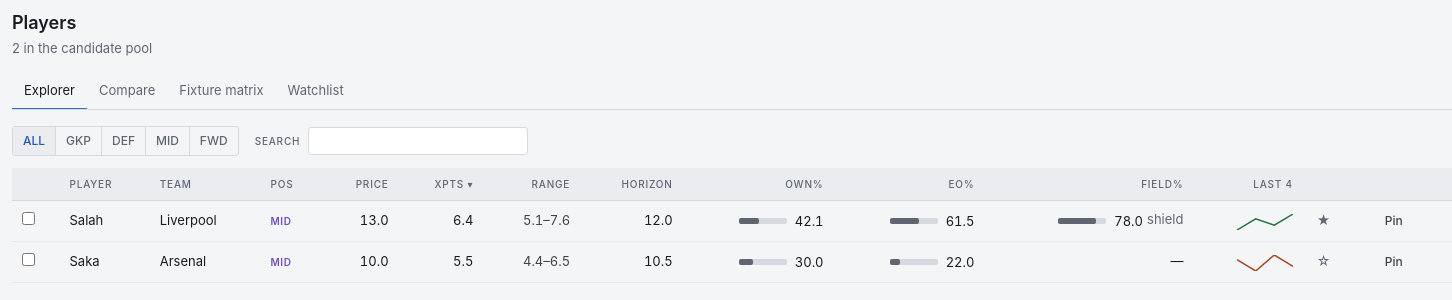
Players hub › paints the active position filter in accent (v14)
Expected: the button "Salah" is shown, [70, 211, 103, 230]
Click the button "DEF".
click(124, 141)  # box [102, 127, 146, 155]
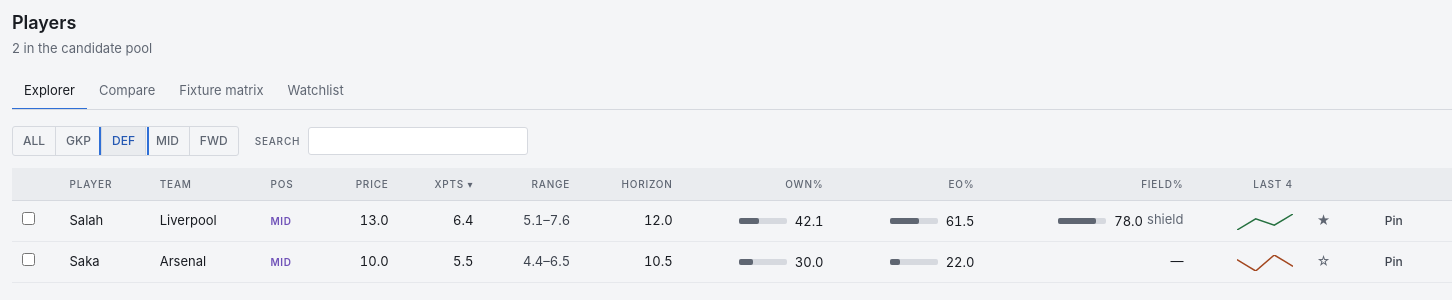
Result: the button "DEF" is pressed at [102, 127, 146, 155]
Result: the button "DEF" has class "text-accent-text" at [102, 127, 146, 155]
